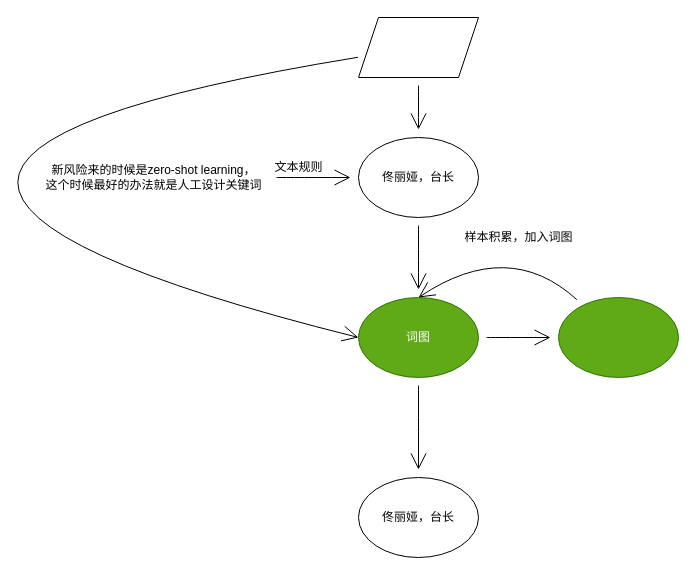
This 696x575 diagram has some shape labels left out. Each missing label, with the centre of its shape:
GNN: the point at 618,337
样本输入: the point at 418,47
